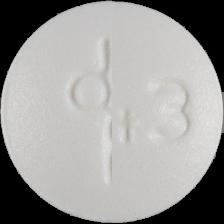0555-9049: (0, 0, 224, 224)
